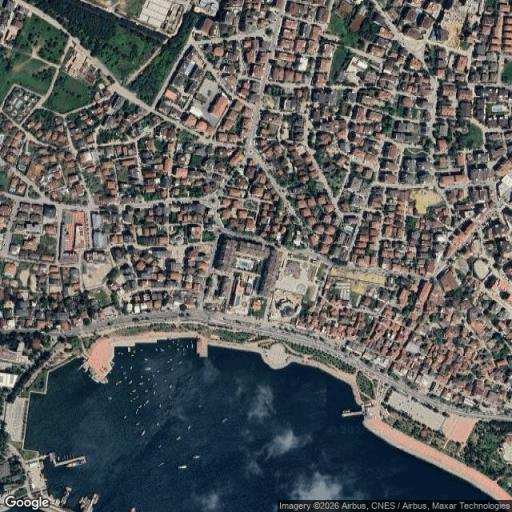ship: (88, 367, 107, 383), (60, 487, 71, 506), (66, 459, 85, 467), (80, 496, 88, 511), (62, 454, 73, 461), (49, 452, 56, 463), (130, 352, 134, 370), (130, 390, 138, 398), (64, 486, 71, 495), (136, 404, 142, 412), (136, 406, 141, 415), (93, 495, 98, 504), (178, 465, 187, 469), (342, 409, 350, 413), (221, 418, 227, 423), (193, 455, 200, 459), (124, 372, 127, 380), (178, 361, 184, 365), (129, 507, 135, 511), (176, 436, 181, 440), (158, 403, 162, 408), (159, 462, 163, 467), (144, 400, 148, 405), (144, 388, 149, 392), (116, 381, 121, 385), (187, 425, 191, 430), (145, 367, 151, 370), (153, 390, 156, 396), (128, 380, 132, 384), (167, 359, 171, 363), (136, 422, 140, 426), (141, 431, 144, 436), (128, 347, 131, 352), (169, 384, 172, 389), (170, 366, 173, 370), (139, 382, 143, 385), (124, 414, 126, 420), (123, 371, 126, 375), (115, 381, 118, 385), (158, 445, 162, 448), (144, 389, 148, 392), (198, 405, 202, 408), (131, 389, 135, 392), (130, 399, 134, 402), (156, 347, 158, 352), (160, 348, 163, 351), (188, 344, 191, 347), (144, 358, 147, 361), (130, 366, 132, 370), (182, 347, 184, 351), (169, 394, 171, 398), (157, 422, 159, 426), (108, 397, 111, 399), (157, 370, 159, 373)
